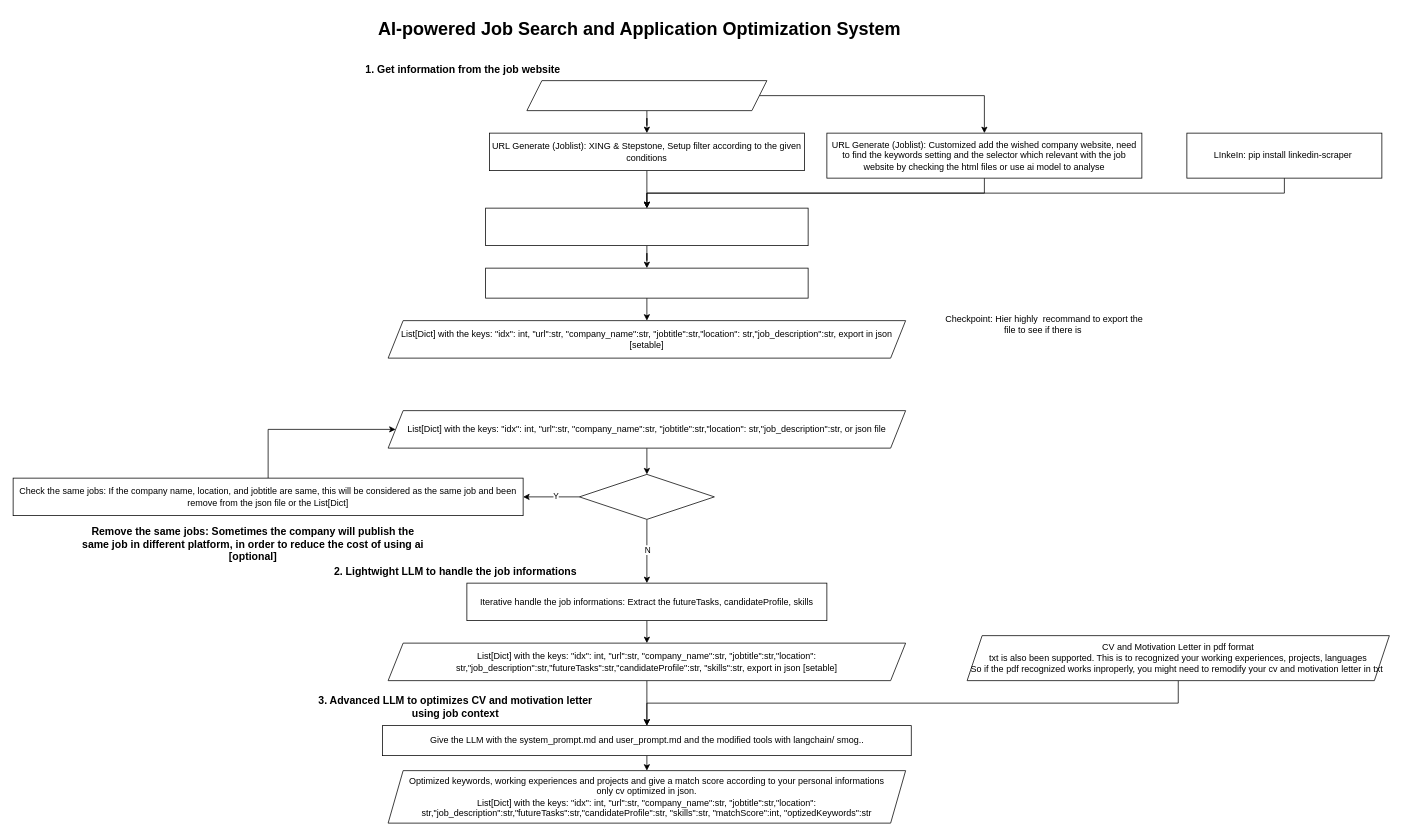
This 1403x836 diagram has some shape labels left out. Each missing label, with the centre of its shape:
"Based on the Joblist, get individuelle job website from the website" goes at (x=646, y=226).
"Check same jobs?" goes at (x=646, y=496).
"From the url get the html file, which contains the informations about the job" goes at (x=646, y=282).
"Job Keywords, Location, Experience Level" goes at (x=646, y=95).
